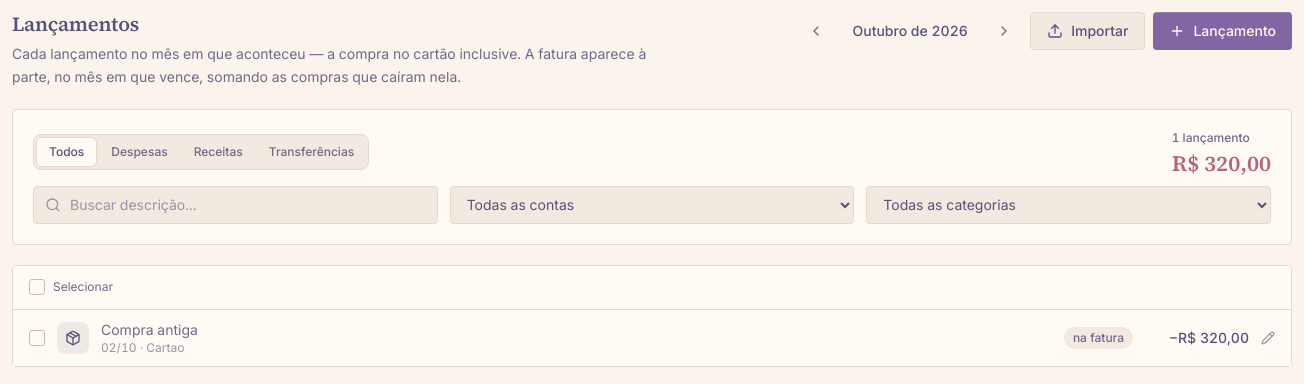
it: seleção de lançamentos › compra de cartão arquivado espera a fatura na linha e no lote, igual
Click the checkbox named "Selecionar Compra antiga, 02/10, R$ 320,00" at (37, 338), box x1=29 y1=330 x2=45 y2=346
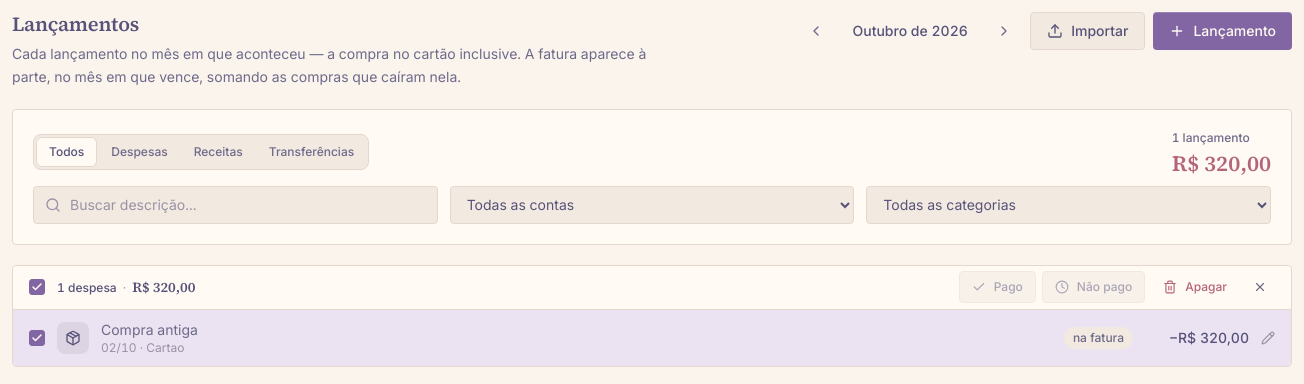
Expected: the text "na fatura" is shown, x1=1064 y1=326 x2=1133 y2=348
Now the button with aria-label "Marcar como pago" is disabled, box x1=959 y1=271 x2=1036 y2=303
